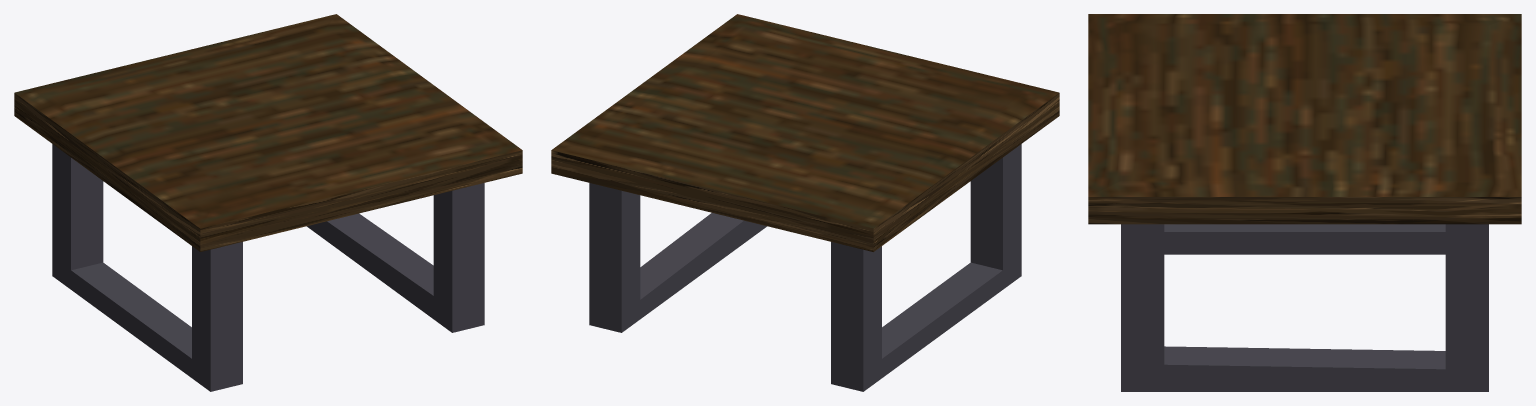
Rendered from Table_V2.fbx.
The picture shows the model from 3 angles, left to right: view 1: azimuth 30°, elevation 25°; view 2: azimuth 150°, elevation 25°; view 3: azimuth 270°, elevation 25°; orthographic projection. The views are drawn at different scales.
Visible parts, largest first — view 1: Table; view 2: Table; view 3: Table.
Part boxes in pixels (x1=…): Table: x1=14, y1=14, x2=522, y2=391; Table: x1=551, y1=14, x2=1059, y2=391; Table: x1=1088, y1=14, x2=1521, y2=391.
Bounding box in the file's own units: 100 × 53.74 × 100.
